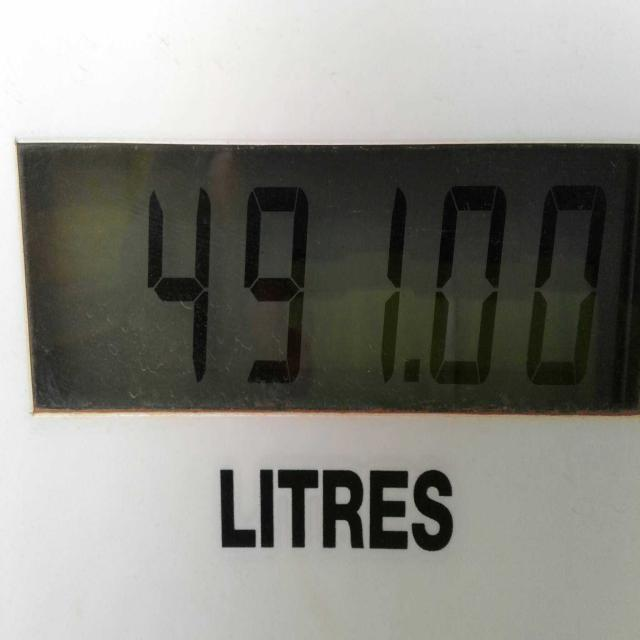.: (405, 353, 420, 389)
0: (526, 183, 604, 380), (433, 180, 502, 386)
1: (374, 185, 403, 384)
4: (150, 188, 213, 382)
9: (239, 184, 309, 384)
